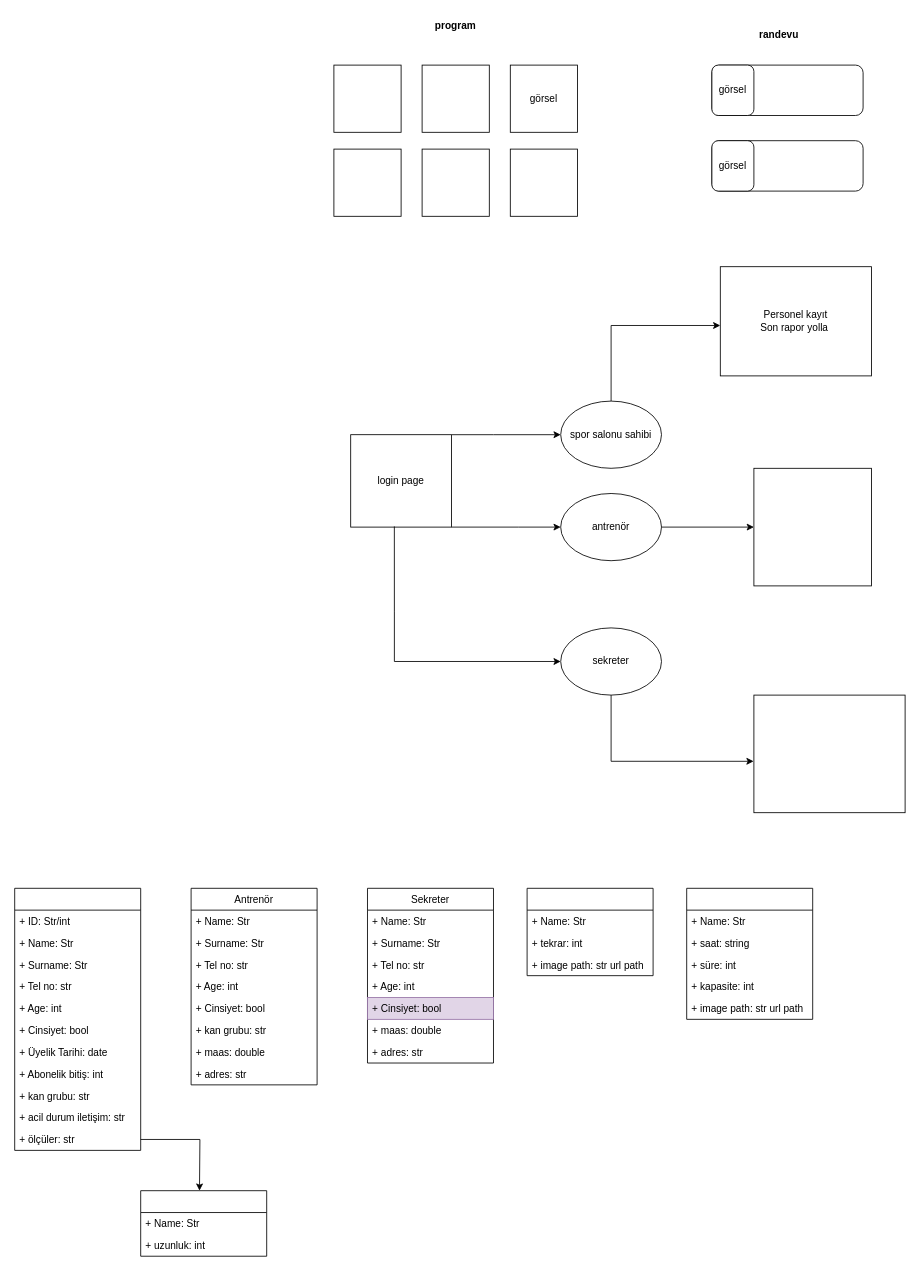
This 920x1273 diagram has some shape labels left out. Each missing label, with the box of its shape:
Hareketler: (526, 887, 653, 976)
Müşteri: (14, 887, 141, 1150)
Spor Programı oluşturma Randevu oluştur Şikayet/öneri Arıza girdisi Ölçü al: (753, 467, 872, 586)
Ölçü: (140, 1190, 267, 1256)
özel ders: (686, 887, 813, 1019)
Üye kayıt Abonelik işlemleri Birebir rezervasyon Satış raporlama Şikayet/öneri: (753, 694, 905, 813)
